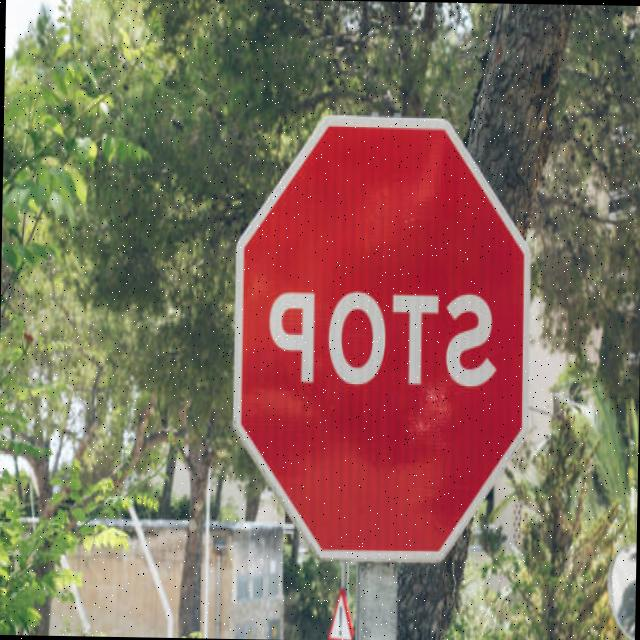stop: (230, 96, 540, 564)
